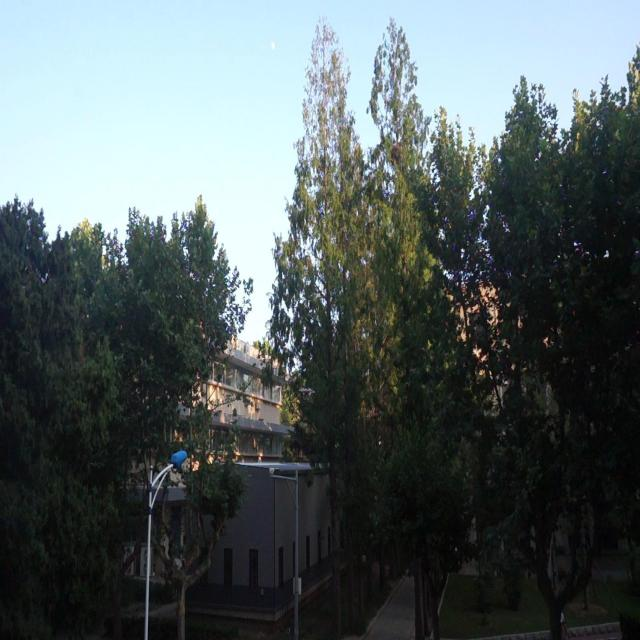UAV: (298, 388, 315, 402)
